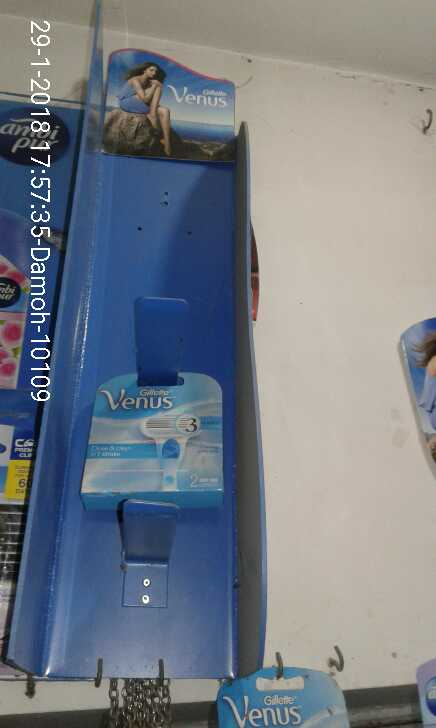venus: (82, 364, 239, 506)
